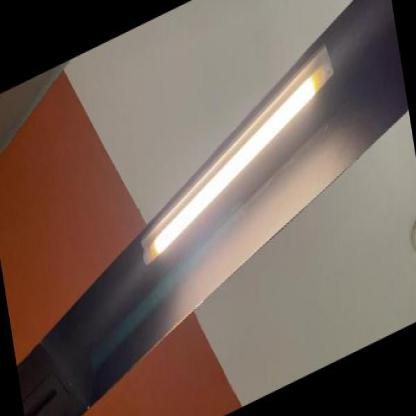light_on: (113, 22, 358, 289)
